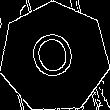O_S: (27, 27, 82, 88)
